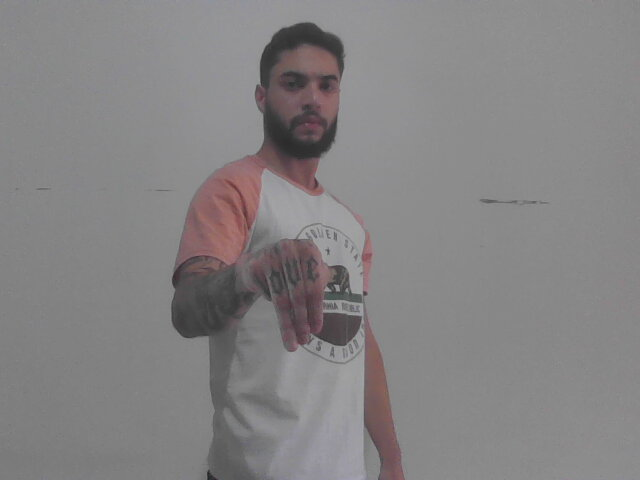m: (237, 233, 337, 355)
